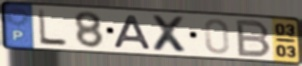0: (203, 17, 231, 56)
8: (73, 10, 106, 51)
A: (112, 14, 155, 52)
B: (235, 19, 274, 59)
L: (36, 8, 69, 48)
X: (150, 13, 192, 55)
